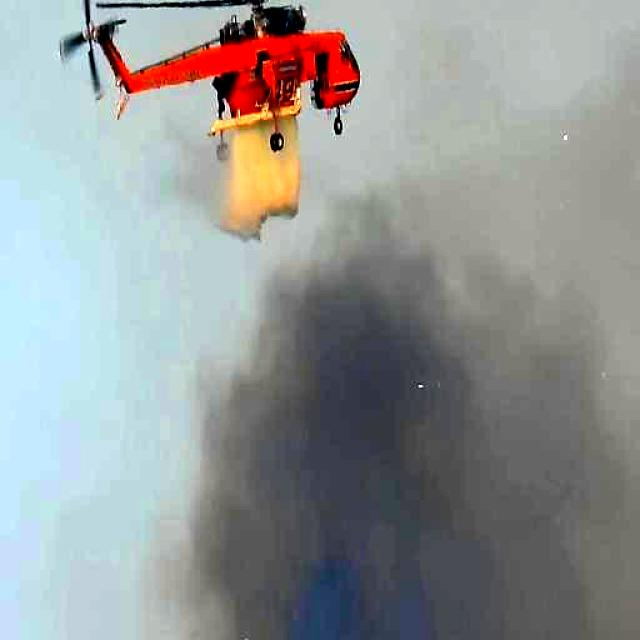drone: (55, 0, 384, 191)
